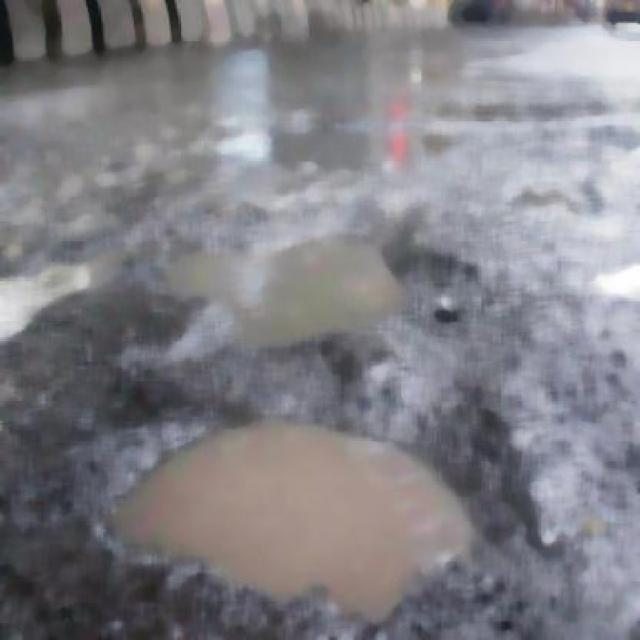Pothole: (99, 364, 486, 619), (151, 217, 426, 337), (0, 206, 123, 360)
